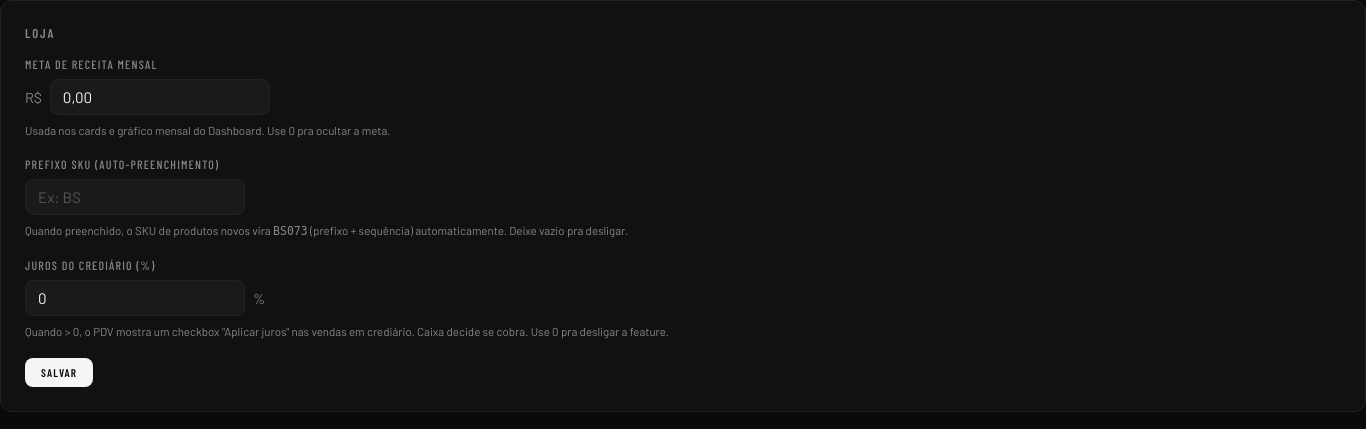
StoreSettingsSection › accepts only digits in meta input and formats progressively
Replace the text in the field with test id "meta-receita-input" with "abc1234567" at (160, 97), box [50, 79, 270, 115]
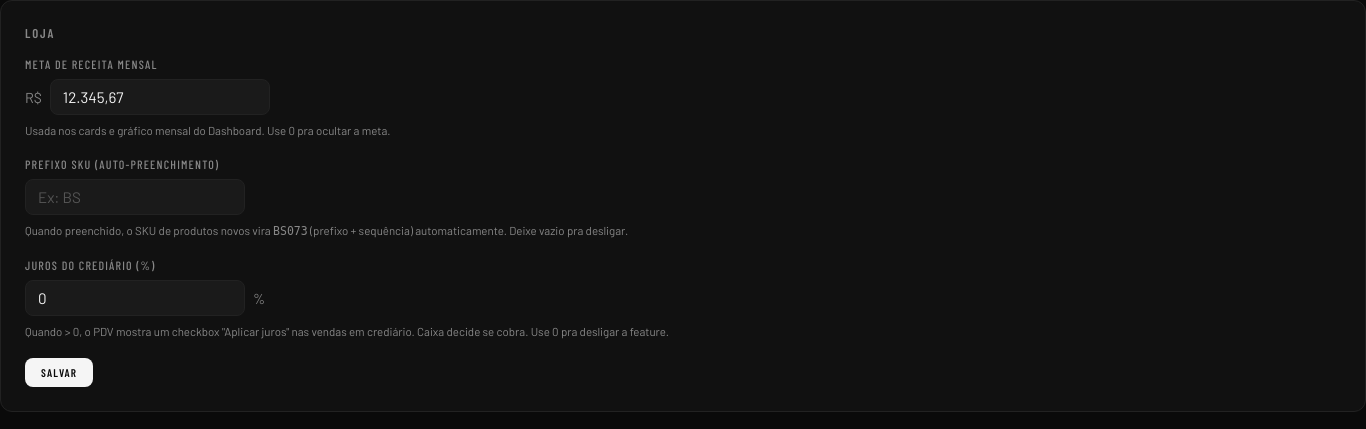
Check: the field with test id "meta-receita-input" holds "12.345,67", box [50, 79, 270, 115]
